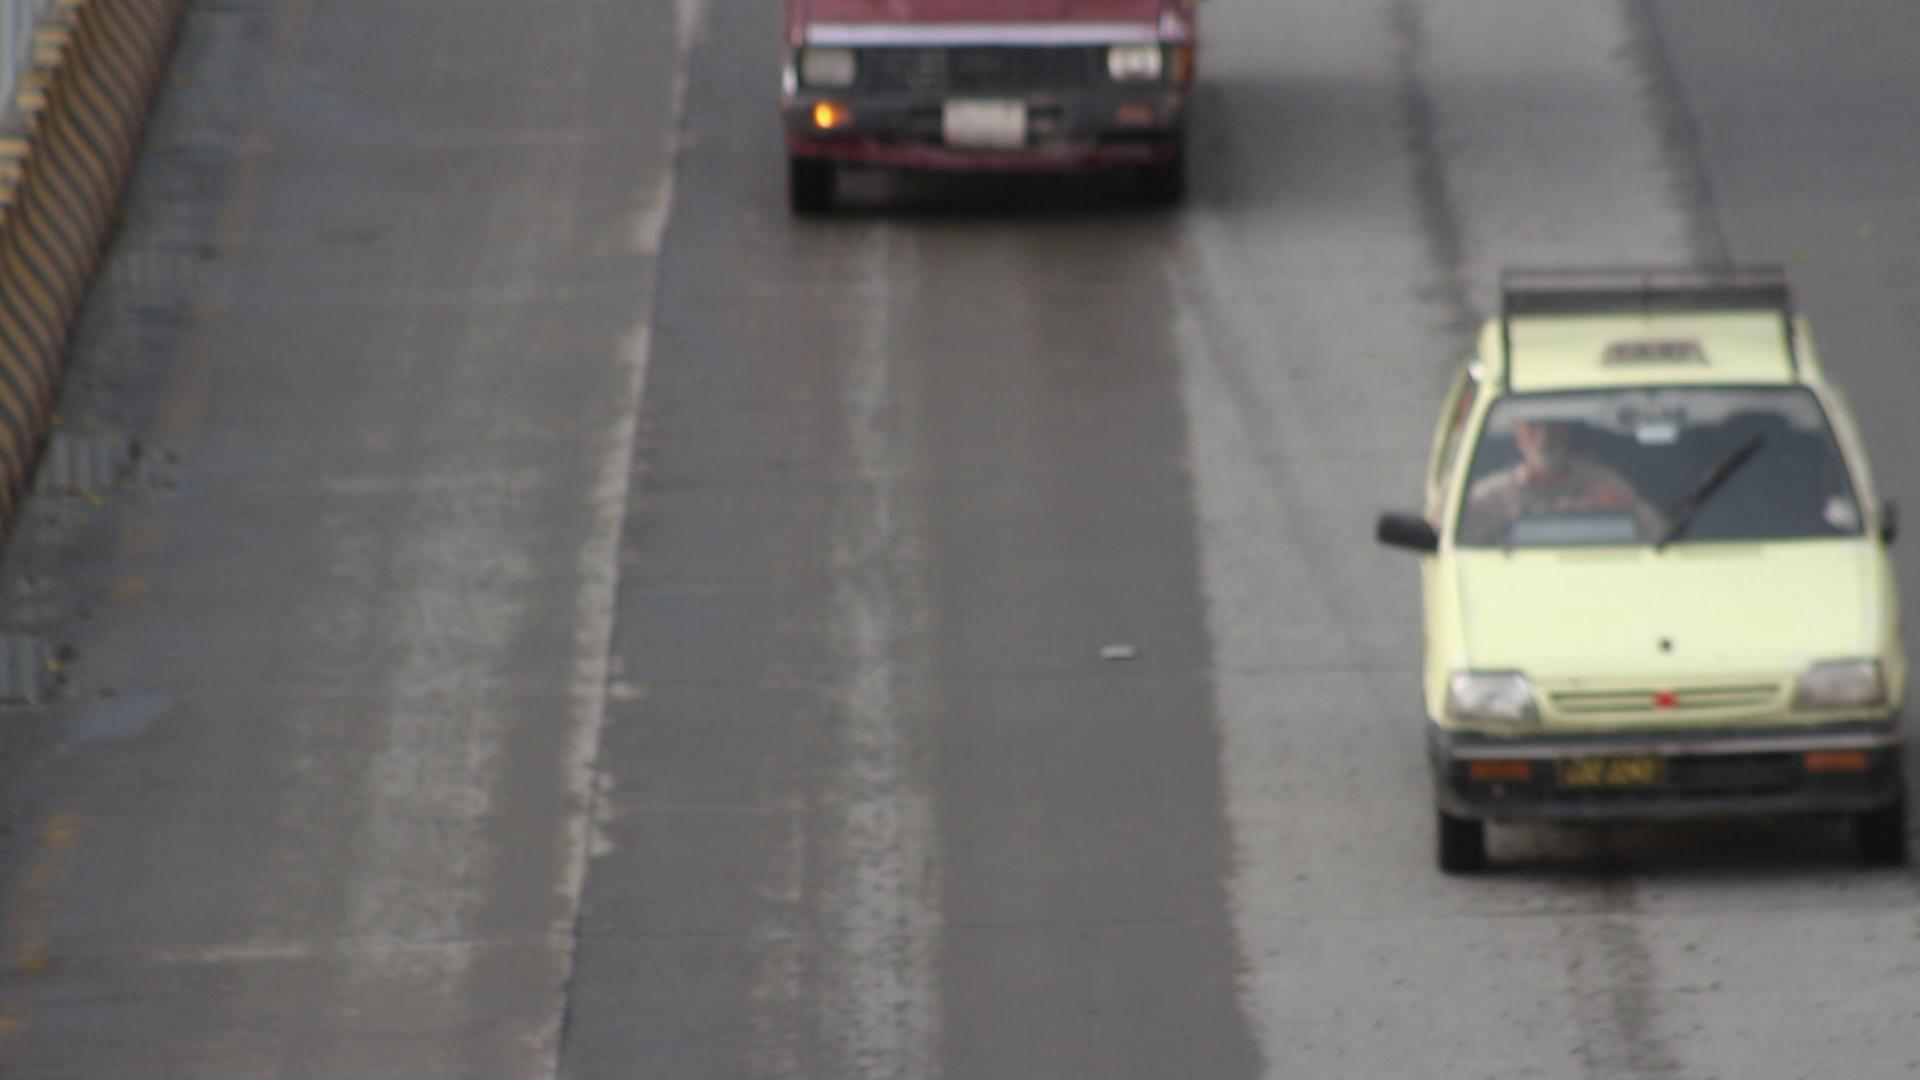windshield: (1444, 360, 1876, 560)
